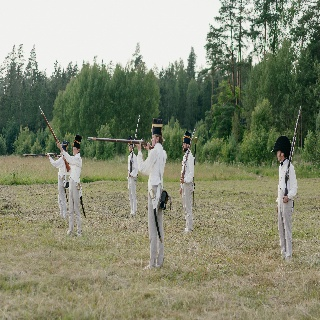rifle: (38, 104, 74, 171), (282, 105, 303, 205), (86, 134, 153, 153), (179, 126, 197, 194), (128, 113, 141, 179), (22, 151, 63, 160)
